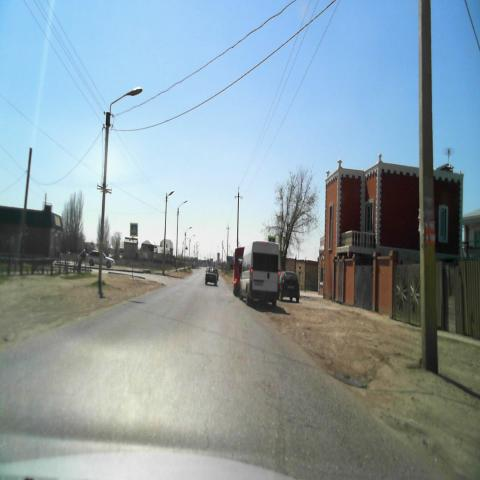5_19_1: (130, 223, 138, 235)
